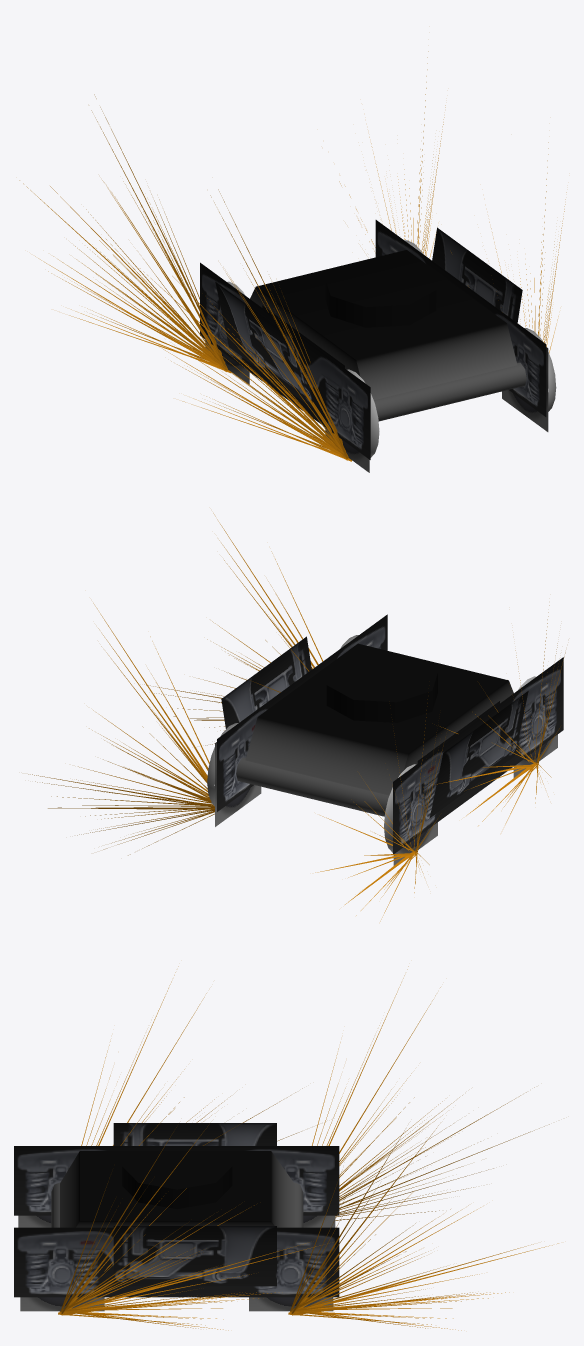
Rendered from TRACK2100.glb.
3 views of the same model, one above another, from view 1: azimuth 30°, elevation 25°; view 2: azimuth 150°, elevation 25°; view 3: azimuth 270°, elevation 25° (orthographic). The views are drawn at different scales.
Parts seen in each view (by area): view 1: trackbase, FIRE0_R_0, FIRE0_R_1, FIRE1_R_1, FIRE1_R_0; view 2: trackbase, FIRE0_L_1, FIRE1_L_1, FIRE1_R_1, FIRE1_L_0, FIRE0_R_1, FIRE1_R_0, FIRE0_R_0, FIRE0_L_0; view 3: trackbase, FIRE1_L_1, FIRE0_L_0, FIRE0_L_1, FIRE1_L_0, FIRE1_R_1, FIRE0_R_1, FIRE1_R_0.
Boxes of the visible parts, x1,y1,x2,y2 form: trackbase: (200,220,556,472); FIRE0_R_0: (171,278,348,458); FIRE0_R_1: (48,194,227,370); FIRE1_R_1: (19,94,230,373); FIRE1_R_0: (140,189,351,461); trackbase: (207,614,563,865); FIRE0_L_1: (51,636,214,855); FIRE1_L_1: (28,603,214,835); FIRE1_R_1: (315,699,445,900); FIRE1_L_0: (144,513,314,745); FIRE0_R_1: (345,732,438,921); FIRE1_R_0: (437,605,565,812); FIRE0_R_0: (466,643,559,825); FIRE0_L_0: (172,551,322,730); trackbase: (14,1123,339,1311); FIRE1_L_1: (288,1125,558,1324); FIRE0_L_0: (60,1177,258,1330); FIRE0_L_1: (290,1171,488,1330); FIRE1_L_0: (58,1125,320,1325); FIRE1_R_1: (326,966,549,1212); FIRE0_R_1: (312,1042,473,1220); FIRE1_R_0: (96,966,302,1145).
Bounding box in the file's own units: 10.41 × 6.14 × 13.15.
Materials: 14 (5 with a texture image).
